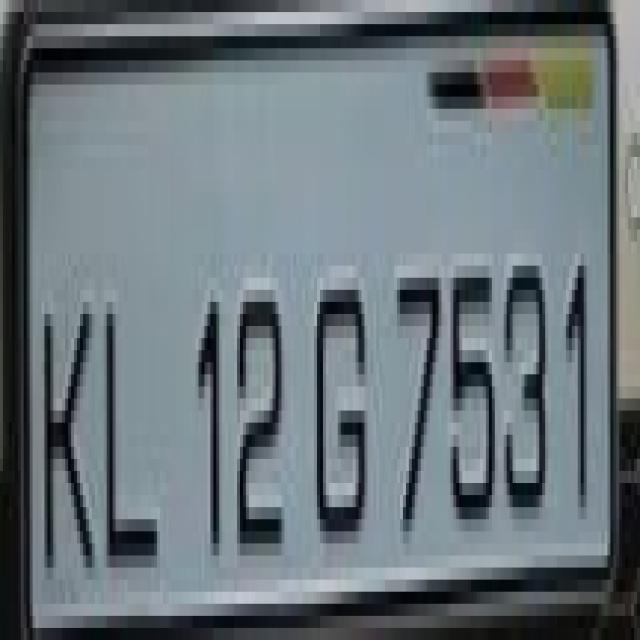1: (186, 268, 226, 584), (563, 242, 593, 519)
2: (231, 275, 286, 556)
3: (502, 234, 552, 534)
5: (446, 257, 498, 534)
7: (394, 252, 442, 540)
G: (310, 280, 374, 556)
K: (40, 268, 99, 612)
L: (102, 284, 162, 576)
